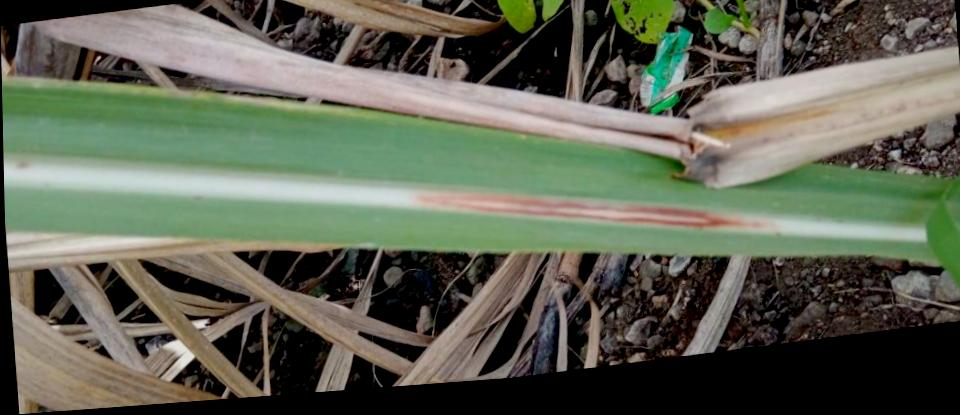RedRot: (408, 193, 781, 229)
